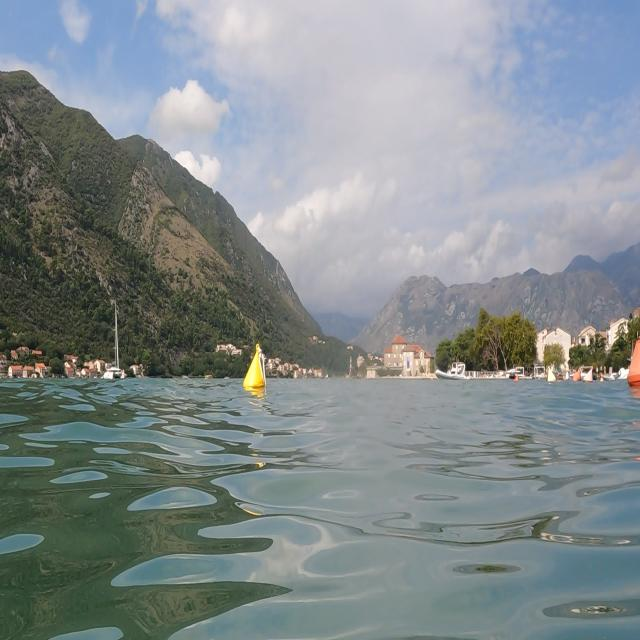boat: (100, 286, 127, 396)
buoy: (240, 340, 270, 400)
